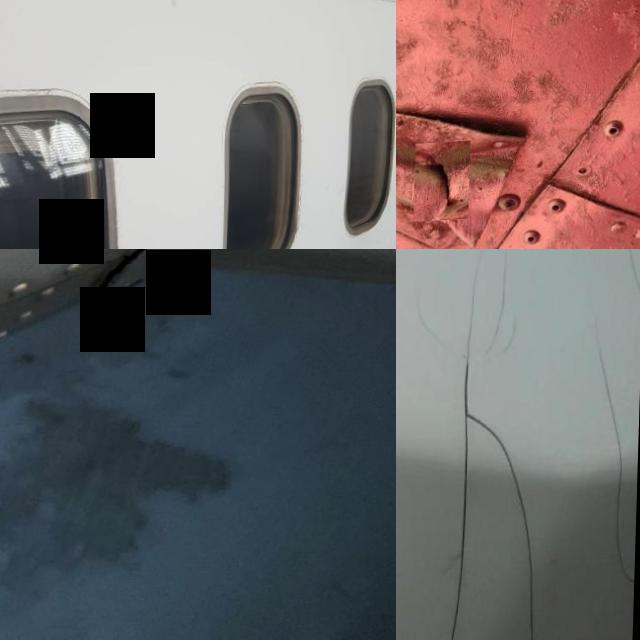Crack: (450, 355, 540, 640), (597, 335, 637, 597), (86, 249, 222, 307), (416, 146, 473, 227), (623, 249, 640, 314)
